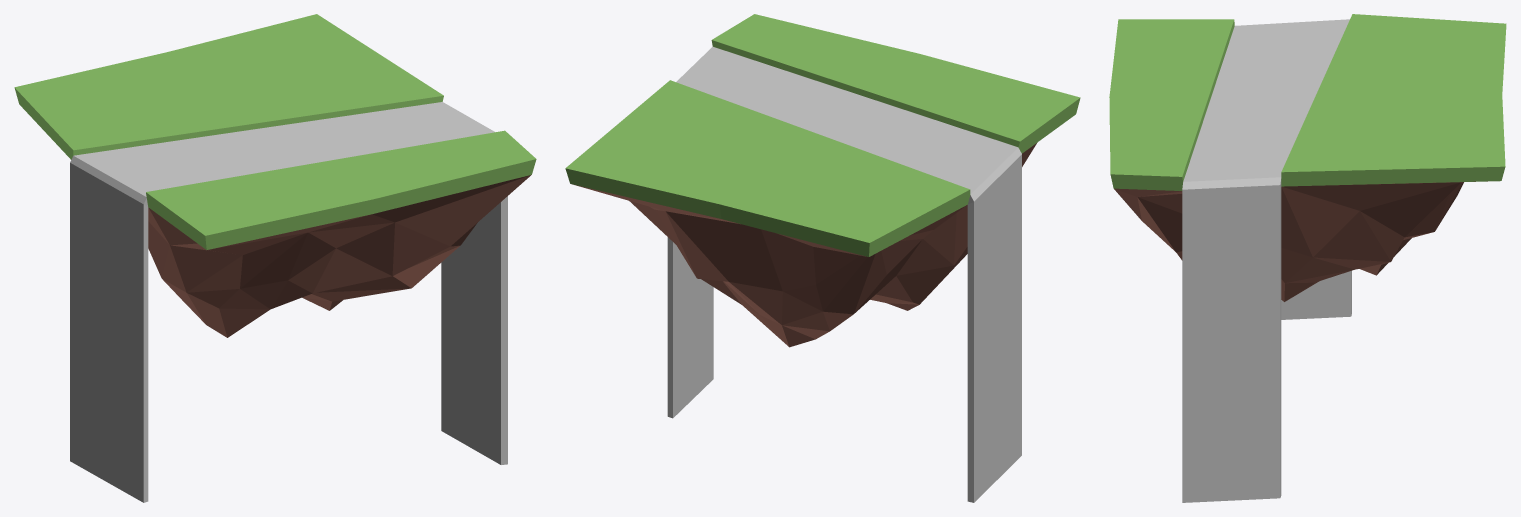
The model's file is Island17waterfall_tex.fbx.
3 renders of one model, left to right at view 1: azimuth 30°, elevation 25°; view 2: azimuth 150°, elevation 25°; view 3: azimuth 270°, elevation 25°, orthographic. The views are drawn at different scales.
Parts seen in each view (by area): view 1: Island17waterfall_tex, Island17waterfall_tex.001; view 2: Island17waterfall_tex, Island17waterfall_tex.001; view 3: Island17waterfall_tex, Island17waterfall_tex.001.
Part boxes in pixels (x1=…): Island17waterfall_tex: x1=14, y1=14, x2=536, y2=337; Island17waterfall_tex.001: x1=70, y1=102, x2=507, y2=502; Island17waterfall_tex: x1=565, y1=14, x2=1080, y2=347; Island17waterfall_tex.001: x1=667, y1=46, x2=1021, y2=502; Island17waterfall_tex: x1=1109, y1=14, x2=1506, y2=301; Island17waterfall_tex.001: x1=1182, y1=19, x2=1351, y2=502.
Bounding box in the file's own units: 4.02 × 3.67 × 4.06.
